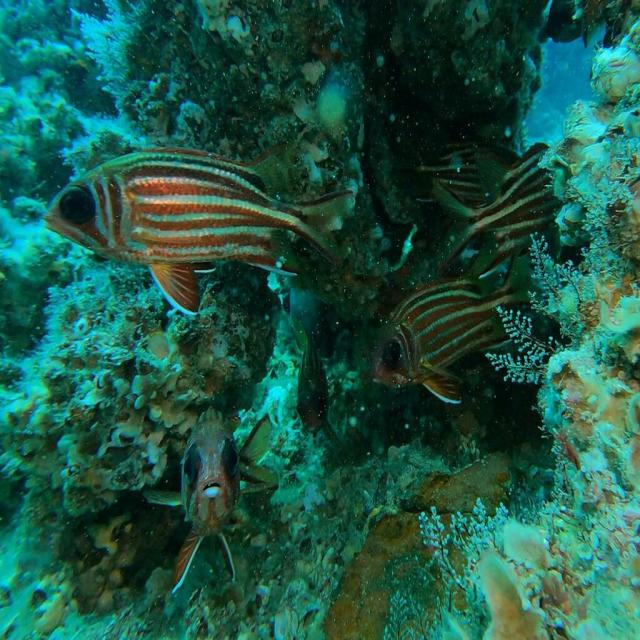Asker Baligi: (18, 136, 386, 328), (368, 246, 572, 413), (147, 387, 251, 584)
